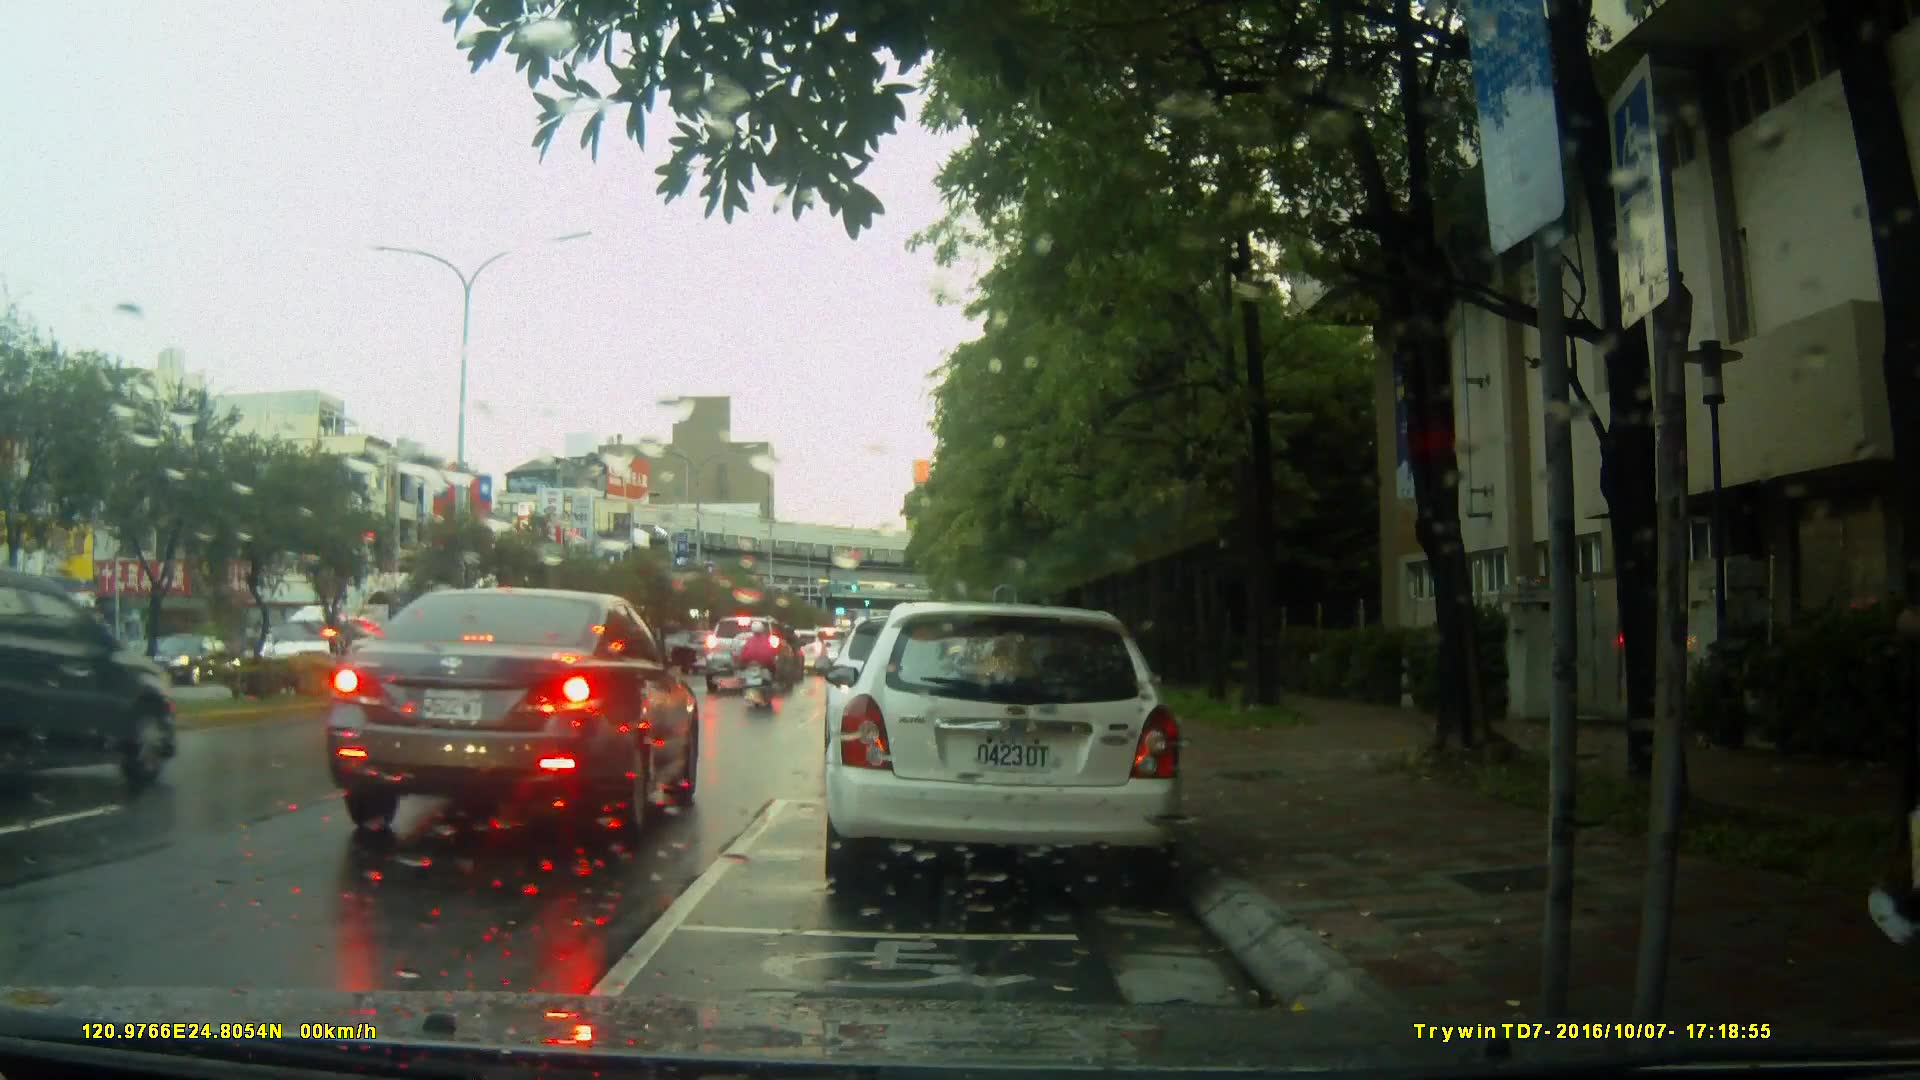pedestrian: (1864, 493, 1920, 964)
rider: (741, 619, 781, 717)
vehicle: (820, 602, 1188, 898), (321, 585, 705, 847), (1, 570, 182, 805), (706, 616, 796, 695)
